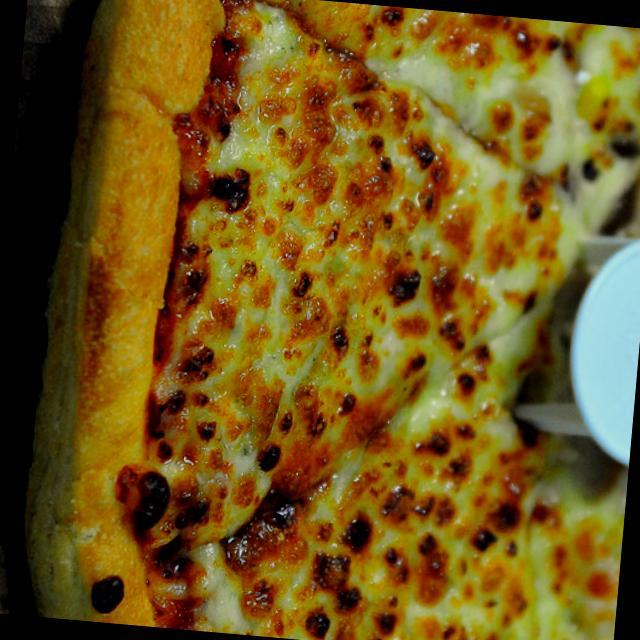pizza: (26, 0, 640, 640)
